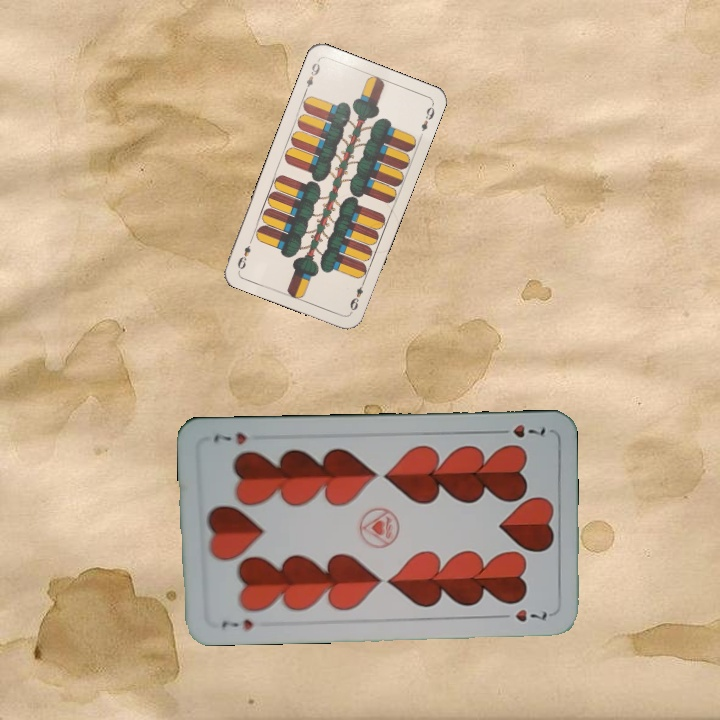E9: (300, 57, 323, 95), (346, 277, 368, 315)
H7: (491, 420, 549, 441), (217, 615, 256, 632)
